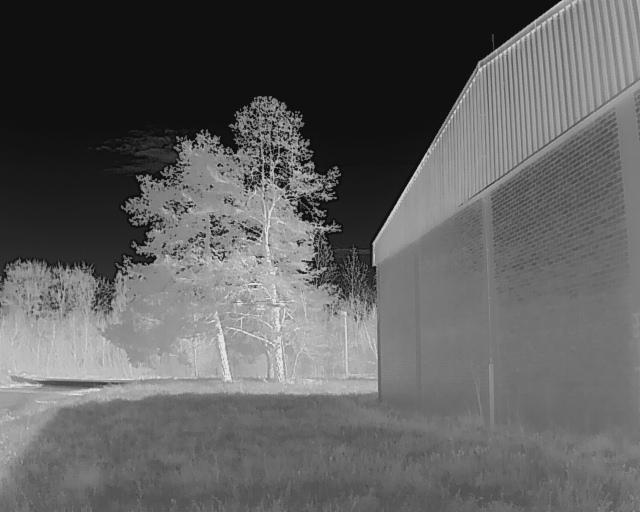drone: (228, 290, 300, 328)
